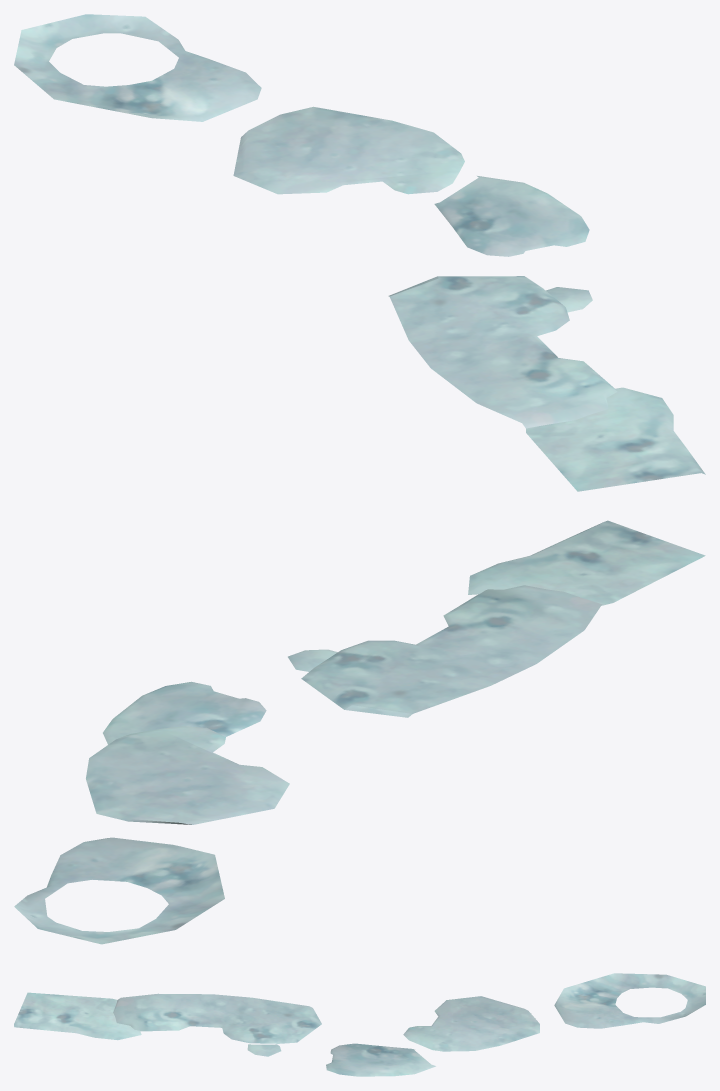
The model's file is section05_guanka08_1.FBX.
The picture shows the model from 3 angles, top to bottom: view 1: azimuth 30°, elevation 25°; view 2: azimuth 150°, elevation 25°; view 3: azimuth 270°, elevation 25°; orthographic projection. The views are drawn at different scales.
Parts seen in each view (by area): view 1: section05_guanka08_1; view 2: section05_guanka08_1; view 3: section05_guanka08_1.
Boxes of the visible parts, left/top/right/bottom form: section05_guanka08_1: left=14, top=14, right=705, bottom=491; section05_guanka08_1: left=14, top=520, right=705, bottom=944; section05_guanka08_1: left=14, top=973, right=705, bottom=1076.
Size of the model in its own units: 72.37 by 245 by 6.68.
